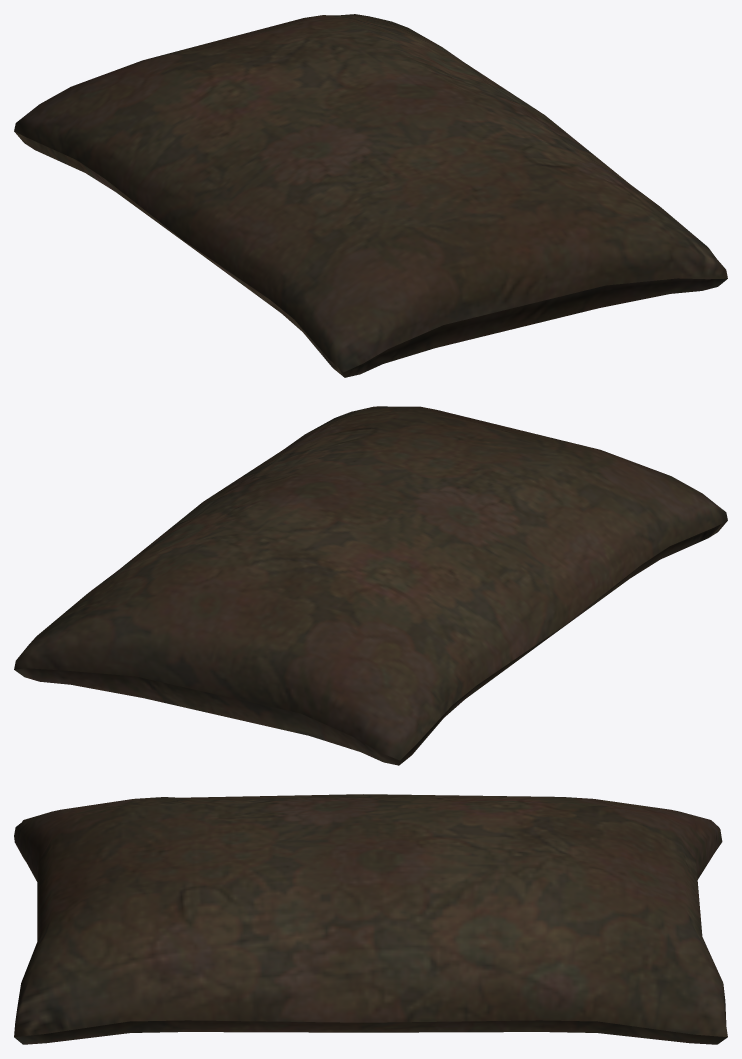
File: pillow_mp_2.obj
3 renders of one model, top to bottom at view 1: azimuth 30°, elevation 25°; view 2: azimuth 150°, elevation 25°; view 3: azimuth 270°, elevation 25°, orthographic. The views are drawn at different scales.
Visible parts, largest first — view 1: pillow_mp_2; view 2: pillow_mp_2; view 3: pillow_mp_2.
Boxes of the visible parts, box(x1,y1,x2,y2) form: pillow_mp_2: box(14, 14, 727, 377); pillow_mp_2: box(14, 406, 727, 765); pillow_mp_2: box(14, 794, 727, 1044).
Size of the model in its own units: 0.5481 by 0.1624 by 0.814.
